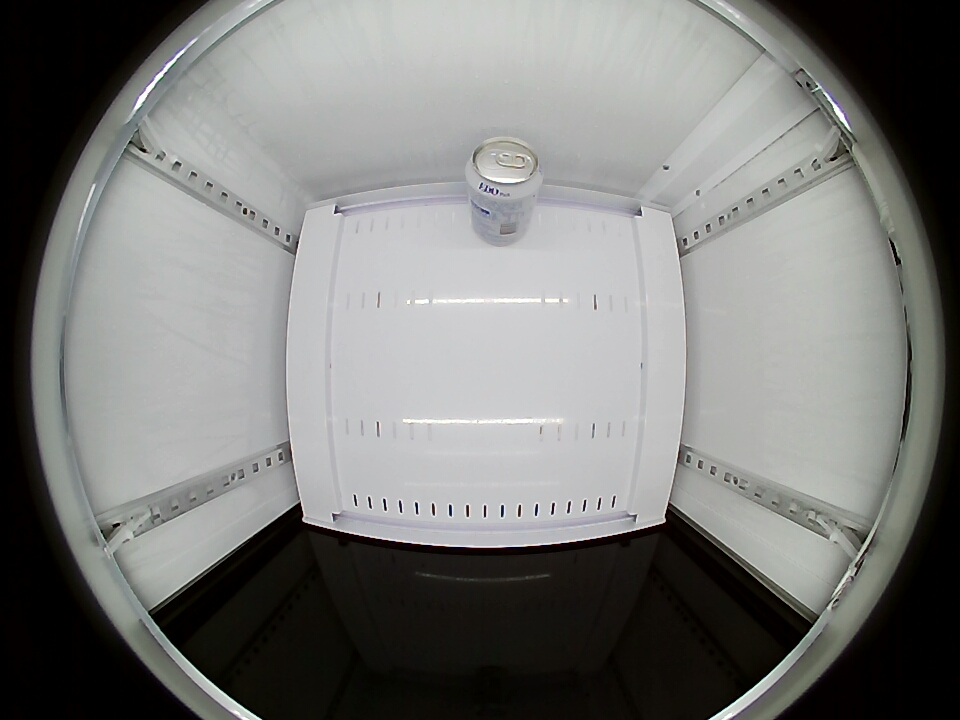rusuanjunqishui: (465, 136, 543, 205)
